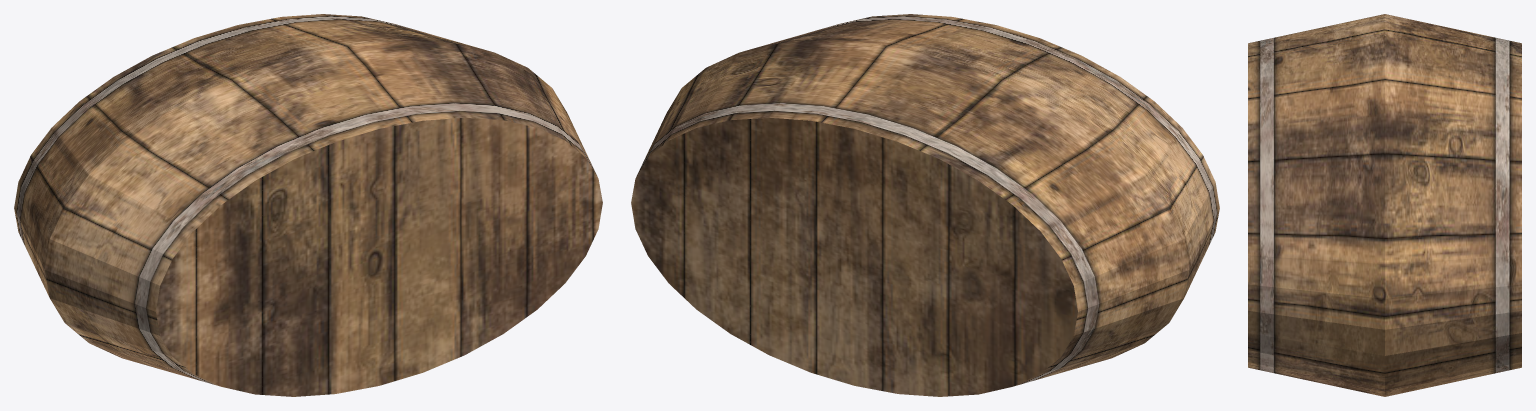
File: Barrel.dae
3 renders of one model, left to right at view 1: azimuth 30°, elevation 25°; view 2: azimuth 150°, elevation 25°; view 3: azimuth 270°, elevation 25°, orthographic. The views are drawn at different scales.
Visible parts, largest first — view 1: Barrel; view 2: Barrel; view 3: Barrel.
Part boxes in pixels (box(x1,y1,x2,y2)): Barrel: box(14, 14, 602, 396); Barrel: box(631, 14, 1219, 396); Barrel: box(1248, 14, 1521, 396).
Bounding box in the file's own units: 4.3 × 2 × 2.36.
1 material, 1 textured.
